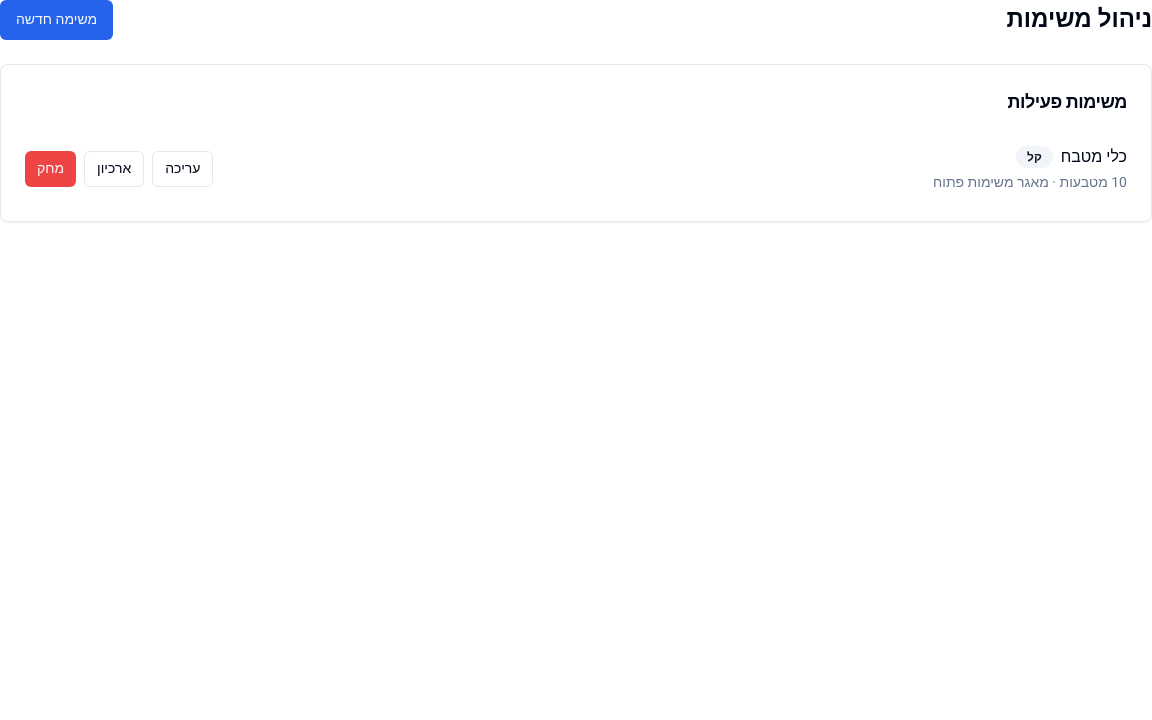
Test: ChoresPage › rpc INVALID_STATUS error shows correct message in dialog
Click the button "מחק": click(51, 169) left=25, top=151, right=76, bottom=187
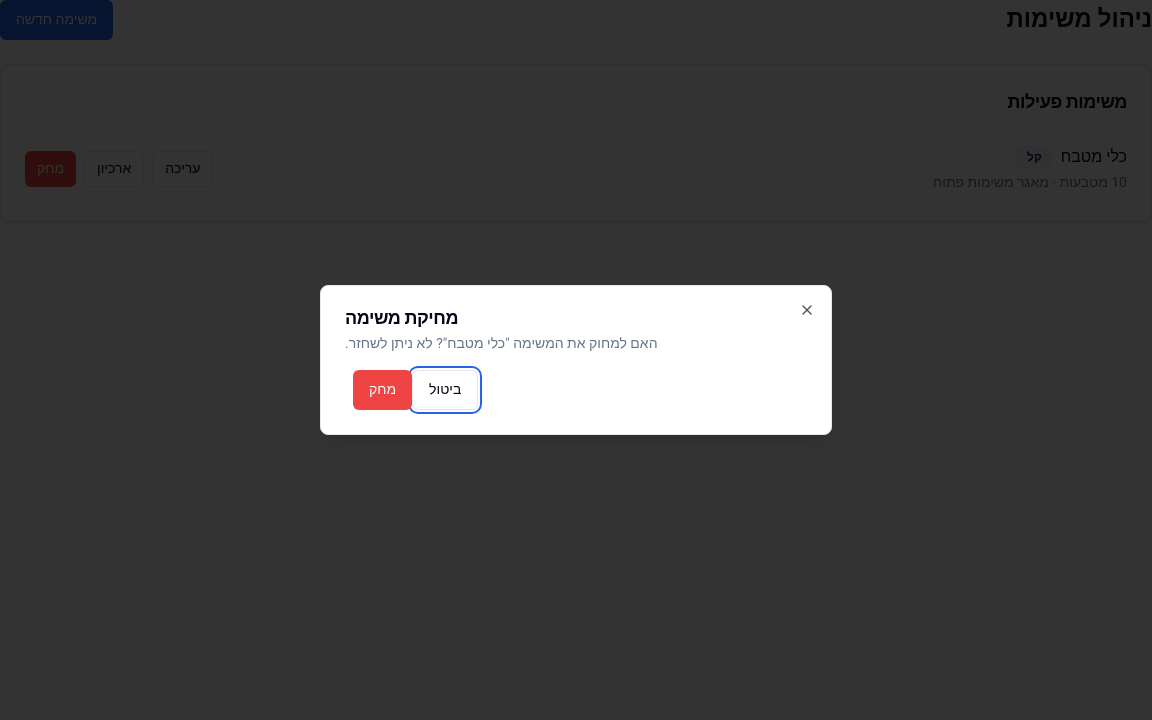
Result: the dialog is shown at left=320, top=285, right=832, bottom=435
Click the button "מחק": click(383, 390) left=353, top=370, right=412, bottom=410
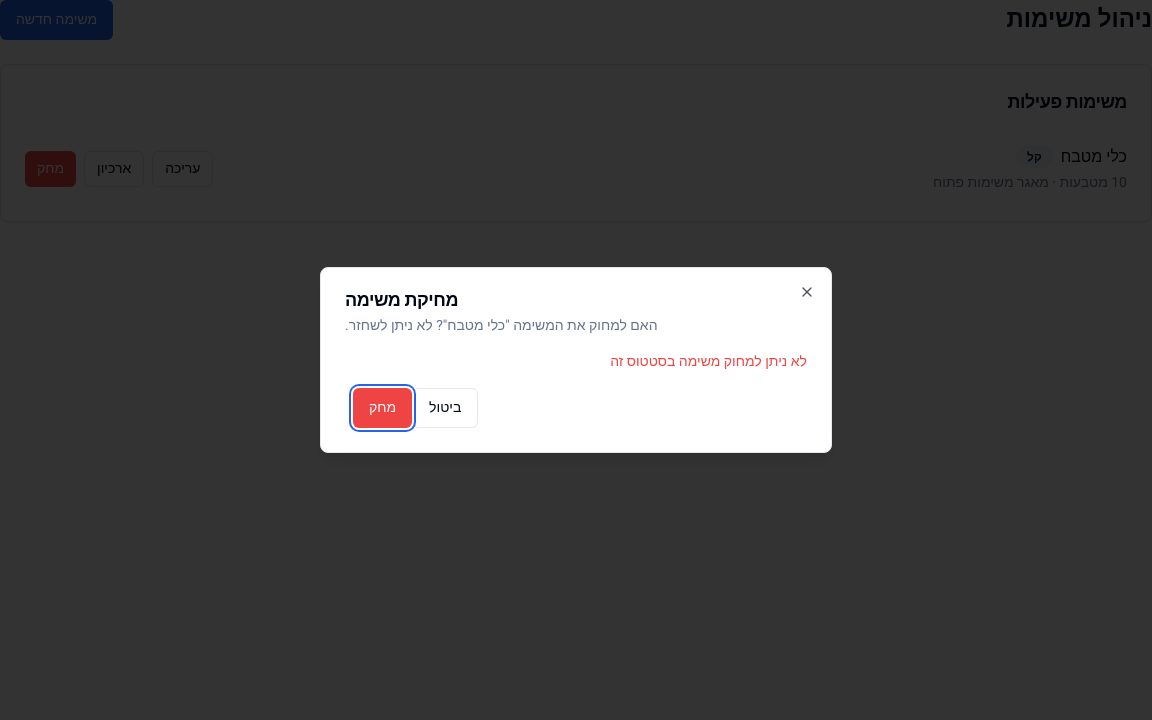
Result: the message reads "לא ניתן למחוק משימה בסטטוס זה" at left=610, top=351, right=807, bottom=372
